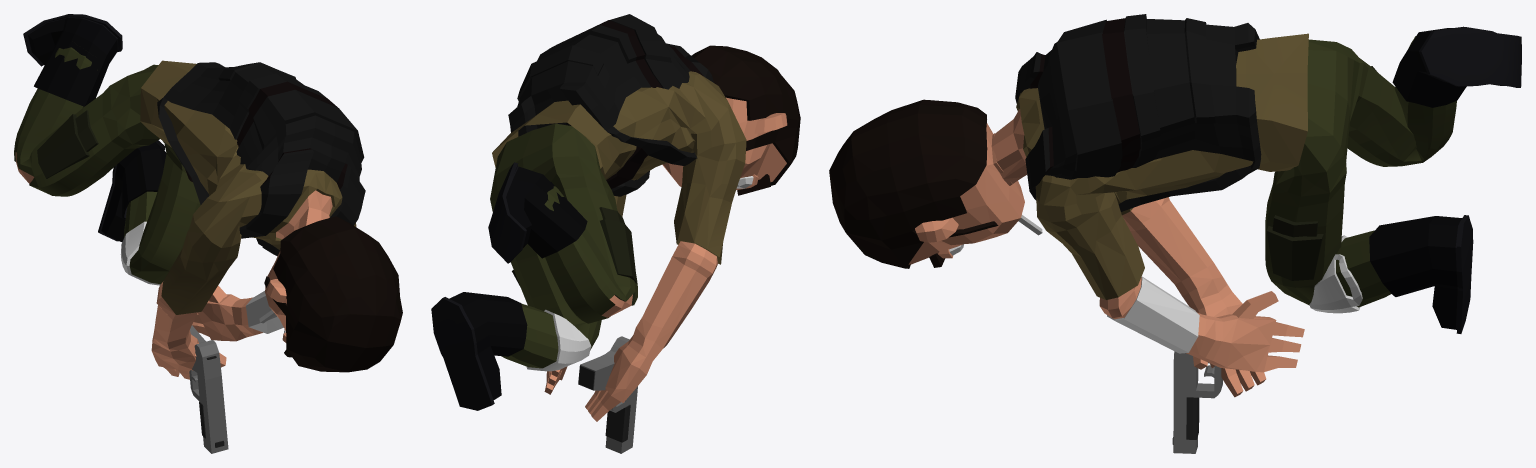
Rendered from frame_0072.obj.
3 views of the same model, side by side, from view 1: azimuth 30°, elevation 25°; view 2: azimuth 150°, elevation 25°; view 3: azimuth 270°, elevation 25° (orthographic). The views are drawn at different scales.
Visible parts, largest first — view 1: Body, Gun; view 2: Body, Gun; view 3: Body, Gun.
Boxes of the visible parts, x1=… form: Body: x1=14, y1=14, x2=402, y2=379; Gun: x1=189, y1=325, x2=228, y2=453; Body: x1=431, y1=14, x2=800, y2=421; Gun: x1=578, y1=336, x2=637, y2=453; Body: x1=829, y1=14, x2=1521, y2=397; Gun: x1=1172, y1=351, x2=1222, y2=453.
Size of the model in its own units: 1.38 by 2.41 by 3.39.
